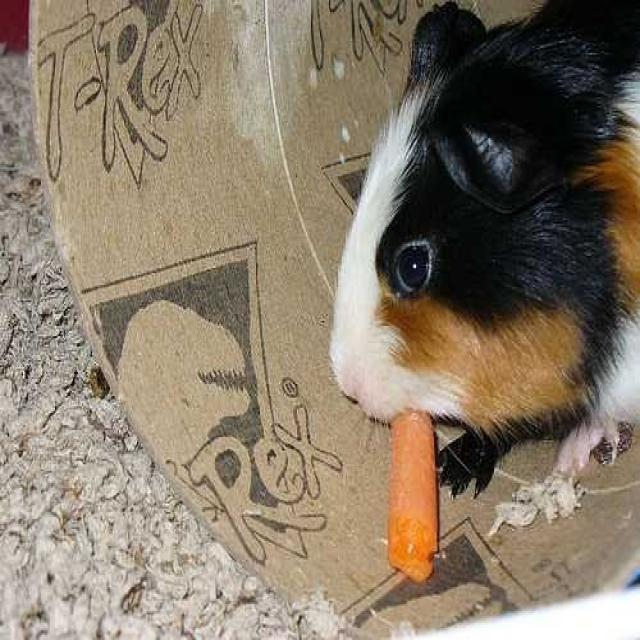guinea pig: (334, 10, 640, 434)
